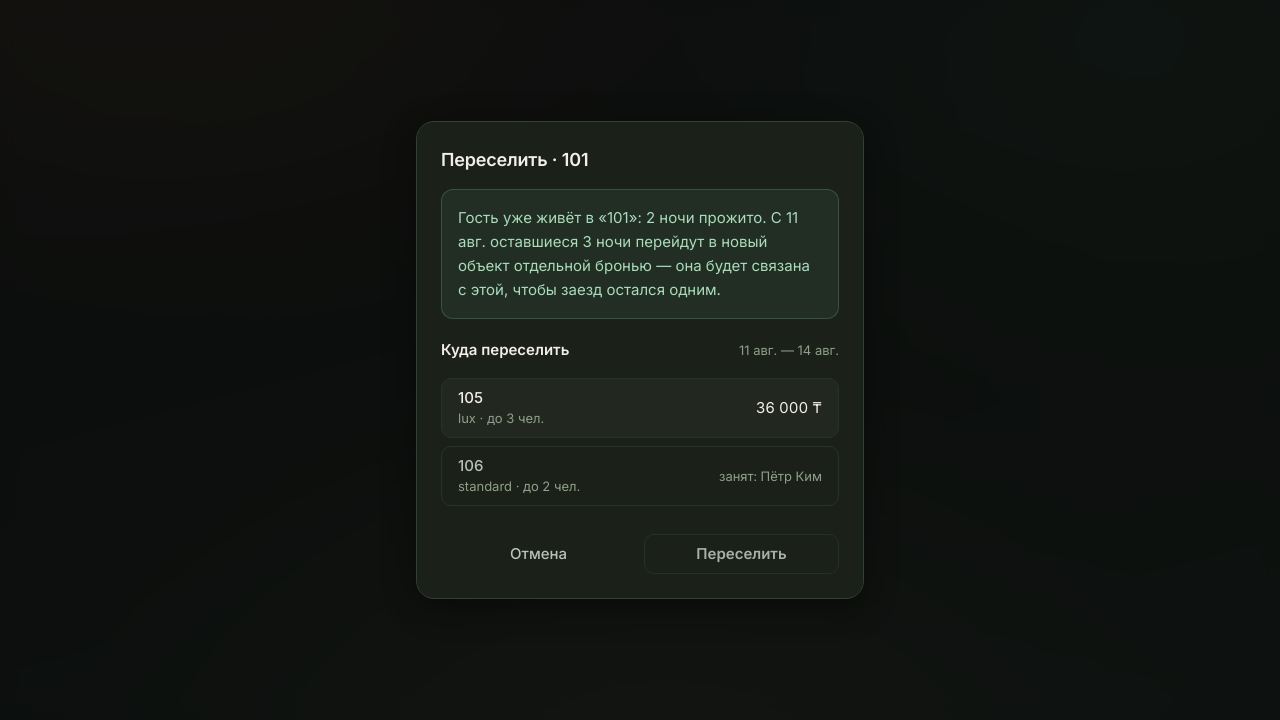
Test: §38 переселение показывает последствие до того, как оно случится › не даёт переселить, пока не выбран объект
Expected: the button "Переселить" is disabled, [644,534,839,574]
Click the button "105 lux · до 3 чел. 36 000 ₸" at (491, 418), box [441,378,839,438]
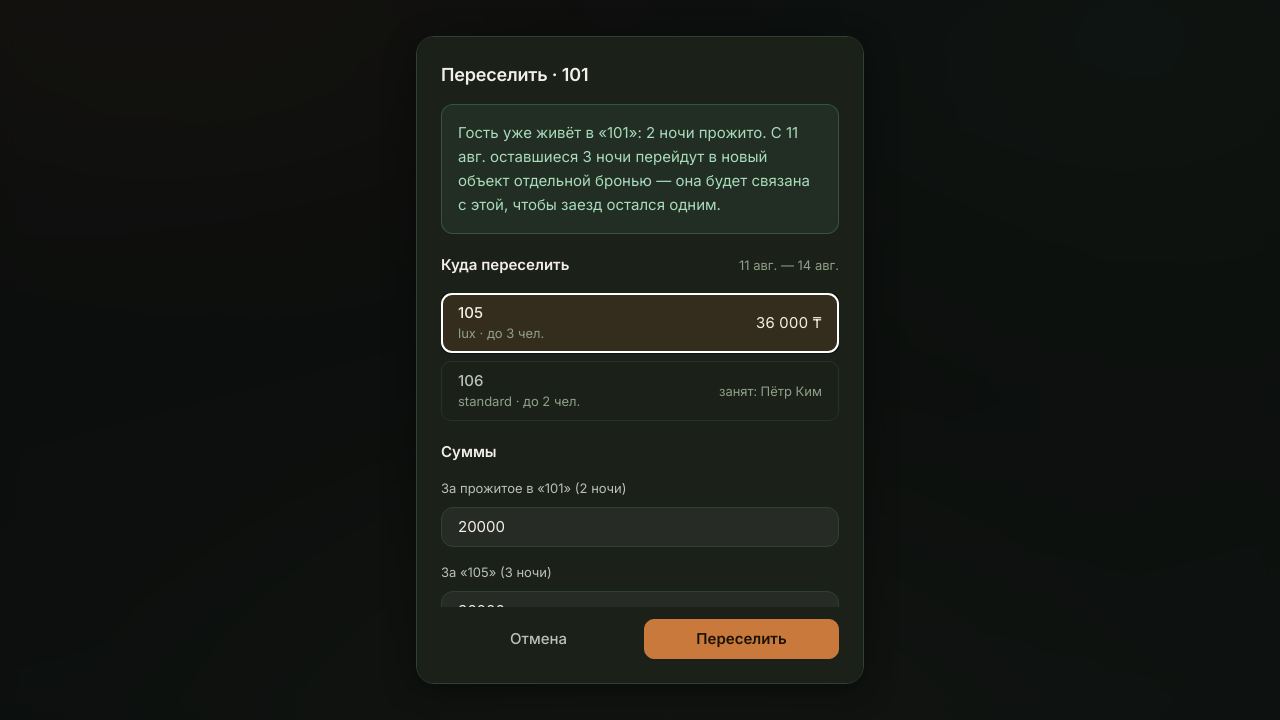
Now the button "Переселить" is enabled, box [644,619,839,659]
